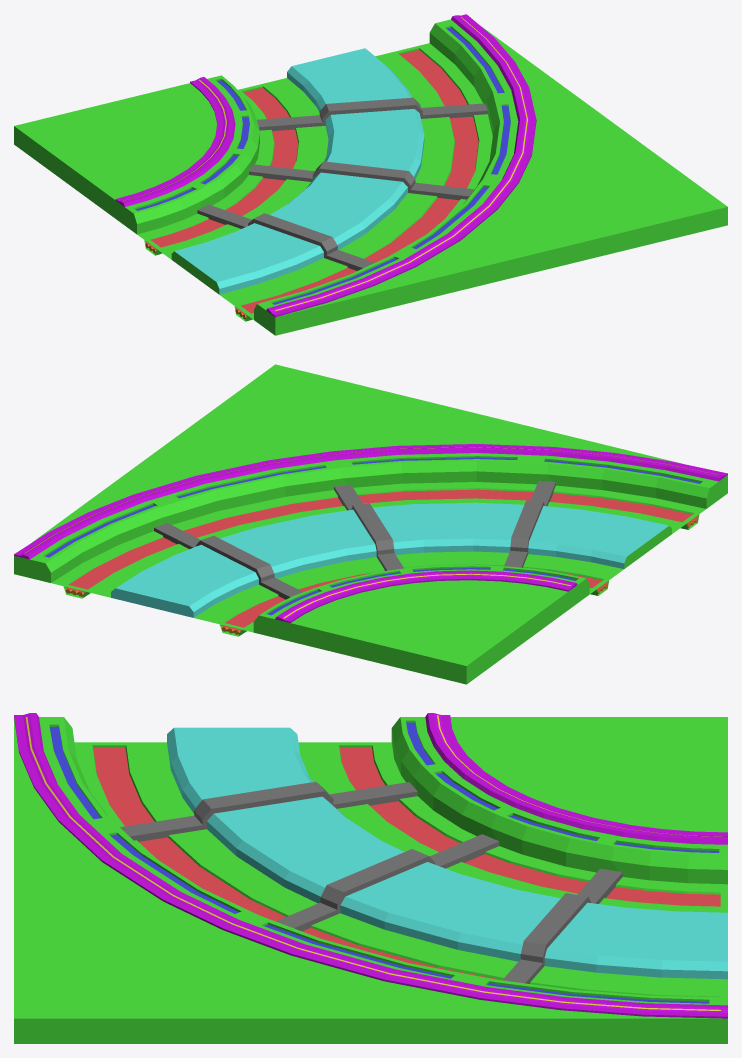
File: Interior_Deco_06_Corner_A.fbx
3 views of the same model, one above another, from view 1: azimuth 30°, elevation 25°; view 2: azimuth 150°, elevation 25°; view 3: azimuth 270°, elevation 25° (orthographic). The views are drawn at different scales.
Visible parts, largest first — view 1: Interior_Deco_06_Corner_A; view 2: Interior_Deco_06_Corner_A; view 3: Interior_Deco_06_Corner_A.
Part boxes in pixels (x1,y1,x2,y2): Interior_Deco_06_Corner_A: (14,14,727,335); Interior_Deco_06_Corner_A: (14,364,727,684); Interior_Deco_06_Corner_A: (14,713,727,1043).
Bounding box in the file's own units: 748 × 46.16 × 748.
